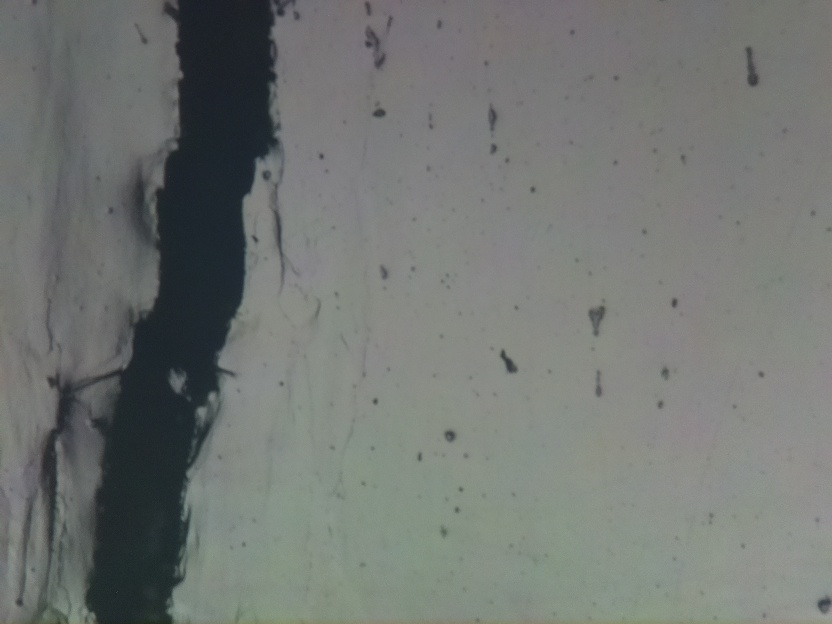crack: (90, 0, 287, 624)
